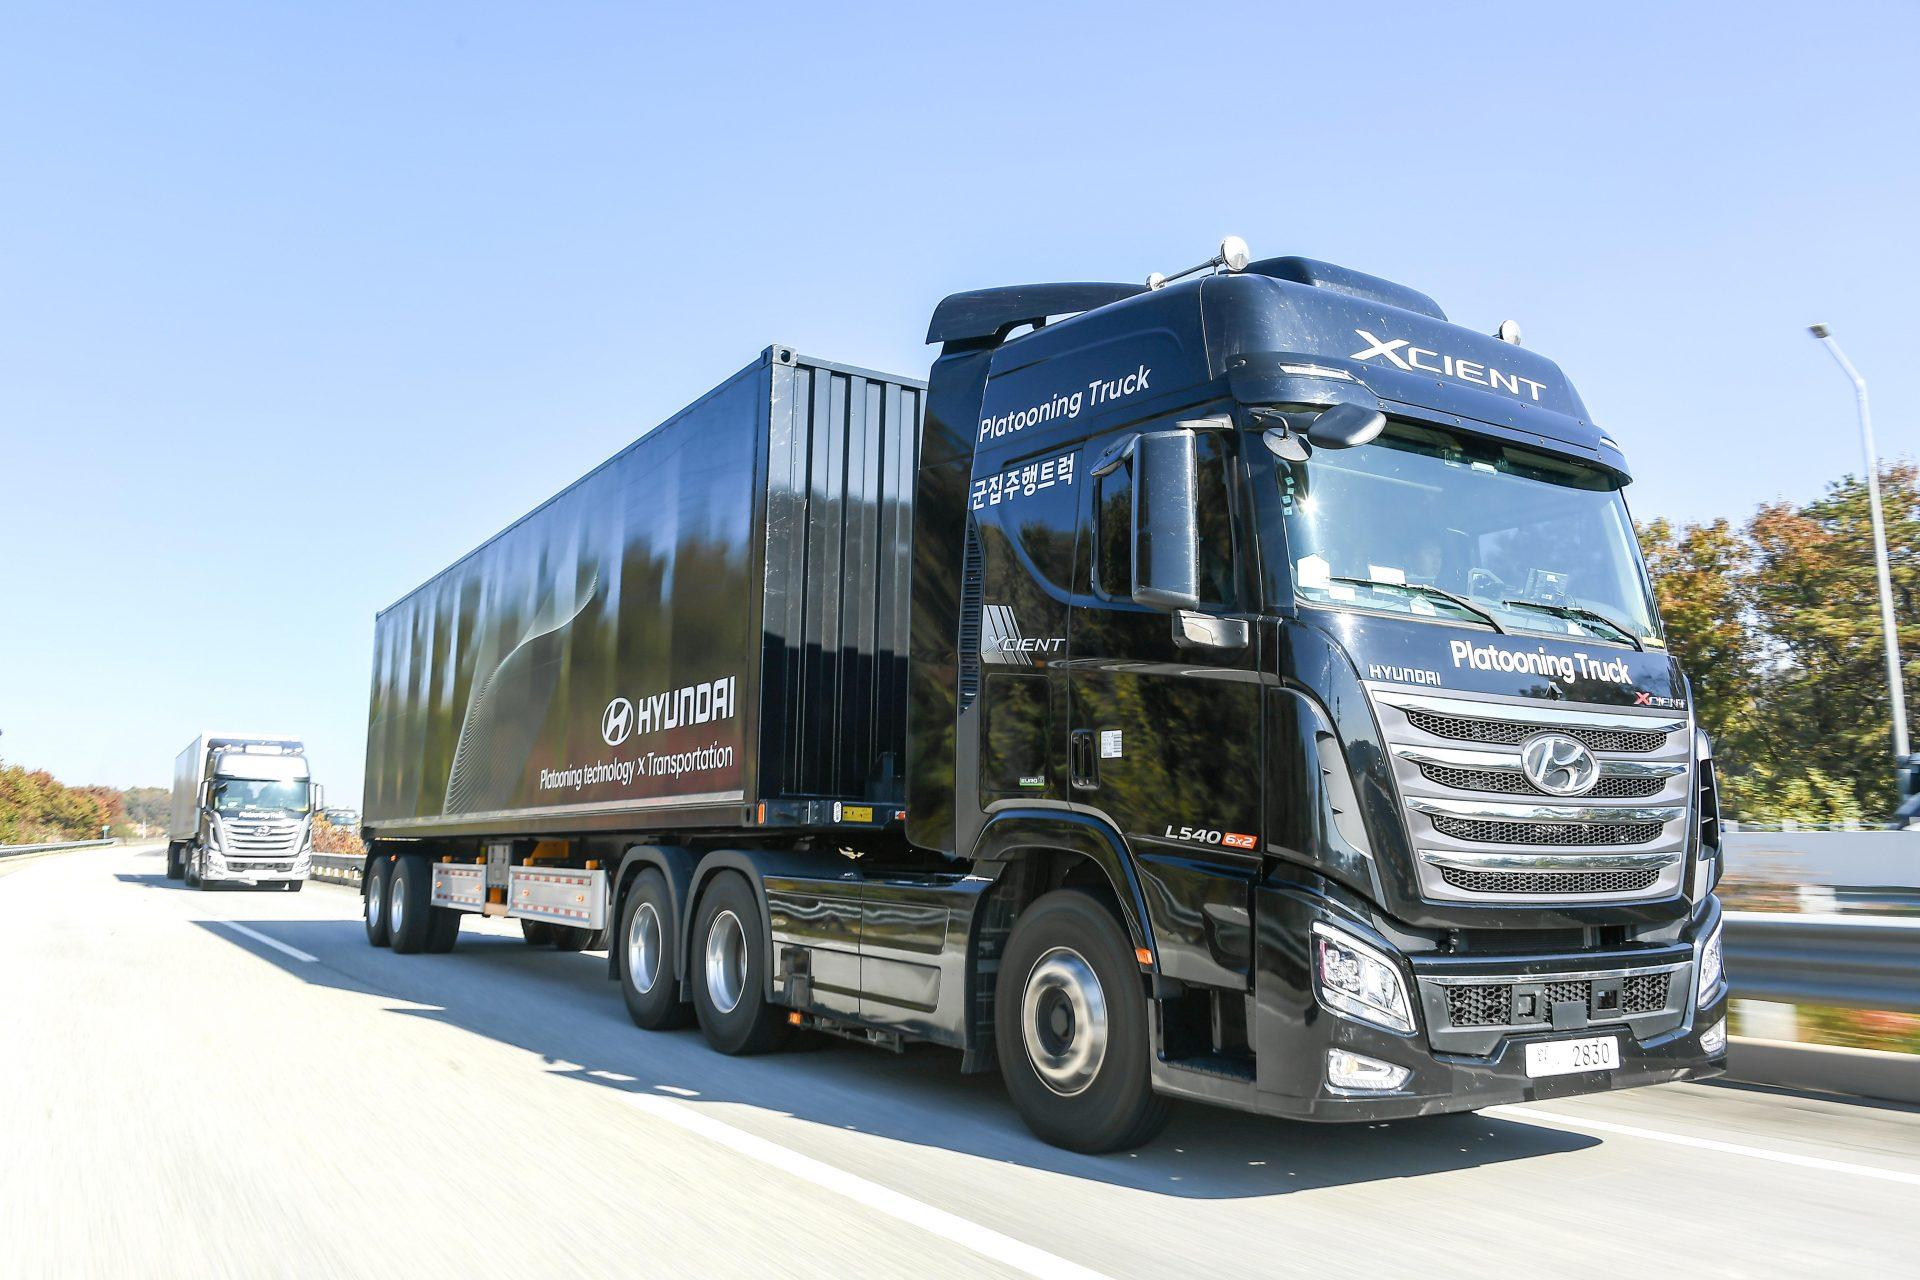truck: (309, 234, 1760, 1154), (149, 720, 324, 913)
